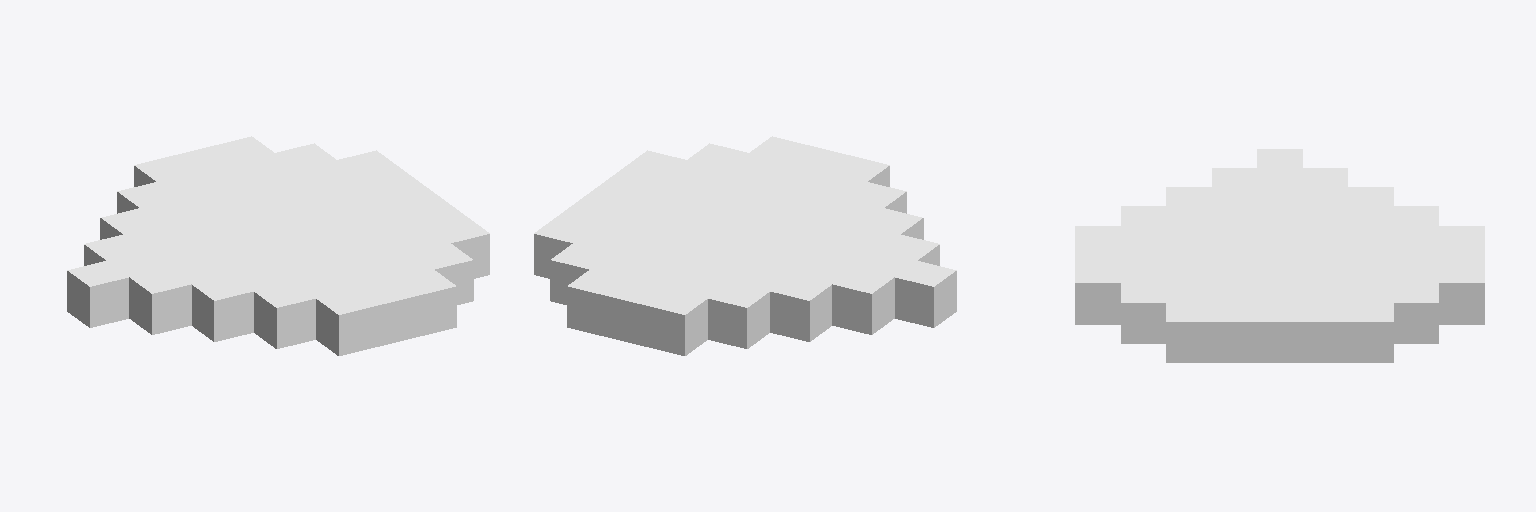
Rendered from dropWater.obj.
The picture shows the model from 3 angles: view 1: azimuth 30°, elevation 25°; view 2: azimuth 150°, elevation 25°; view 3: azimuth 270°, elevation 25°; orthographic projection.
Parts seen in each view (by area): view 1: object 1; view 2: object 1; view 3: object 1.
Part boxes in pixels (x1,y1,x2,y2): object 1: (67, 136, 489, 355); object 1: (534, 136, 956, 355); object 1: (1075, 149, 1484, 362).
Bounding box in the file's own units: 0.9 × 0.1 × 0.9.